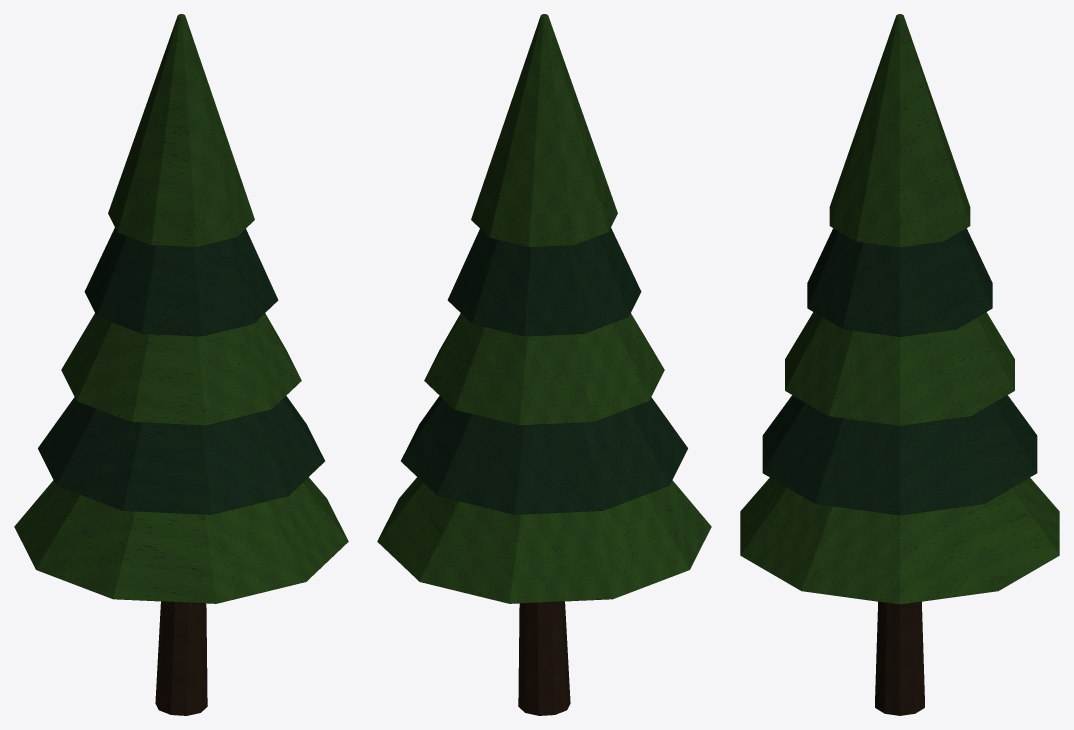
The model's file is PROP-D50B21B39299_lod1.glb.
The picture shows the model from 3 angles, left to right: view 1: azimuth 30°, elevation 25°; view 2: azimuth 150°, elevation 25°; view 3: azimuth 270°, elevation 25°; orthographic projection.
Parts seen in each view (by area): view 1: layered_conifer_crown.046, layered_conifer_crown.047, trunk.065; view 2: layered_conifer_crown.046, layered_conifer_crown.047, trunk.065; view 3: layered_conifer_crown.046, layered_conifer_crown.047, trunk.065.
Boxes of the visible parts, x1,y1,x2,y2 form: layered_conifer_crown.046: [14, 14, 348, 603]; layered_conifer_crown.047: [38, 228, 324, 514]; trunk.065: [155, 601, 207, 715]; layered_conifer_crown.046: [377, 14, 711, 603]; layered_conifer_crown.047: [401, 228, 687, 514]; trunk.065: [518, 601, 570, 715]; layered_conifer_crown.046: [740, 14, 1059, 604]; layered_conifer_crown.047: [762, 228, 1037, 515]; trunk.065: [875, 601, 924, 715].
Bounding box in the file's own units: 3.07 × 6.94 × 2.92.
3 materials, 3 textured.
